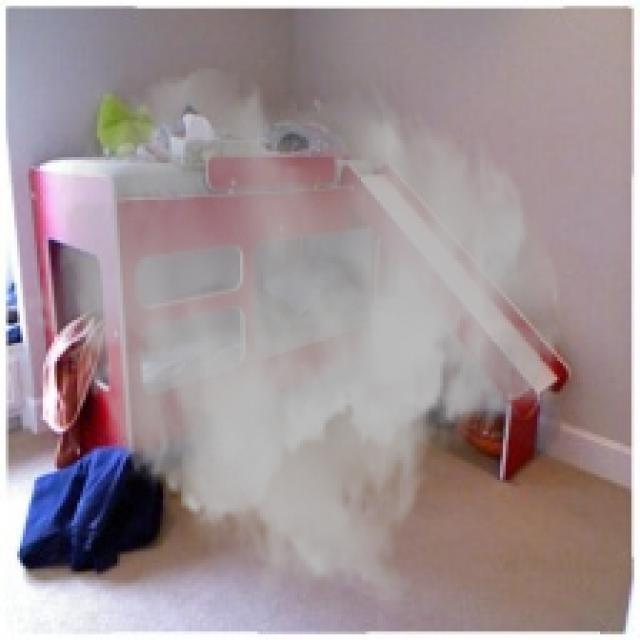Smoke: (23, 62, 566, 618)
